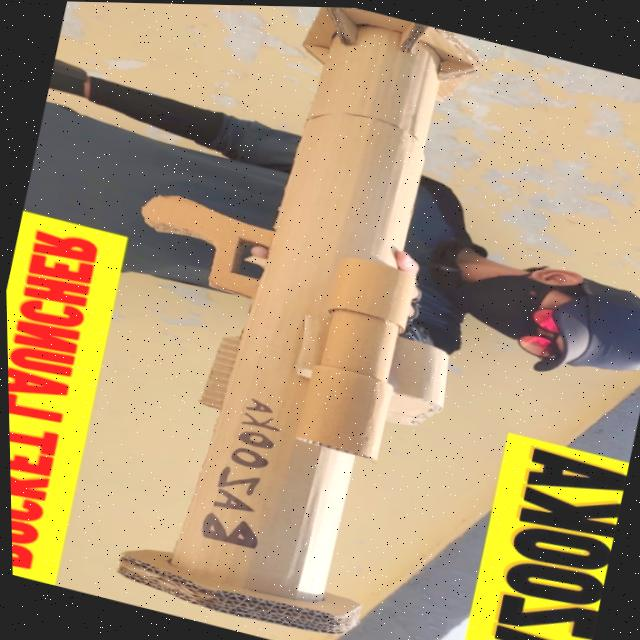rocket: (49, 1, 527, 640)
